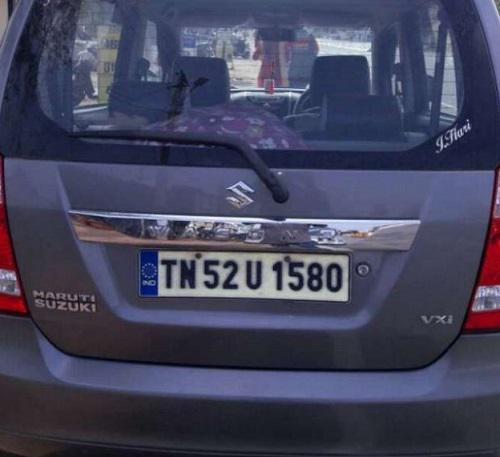licence-plate: (150, 250, 350, 304)
